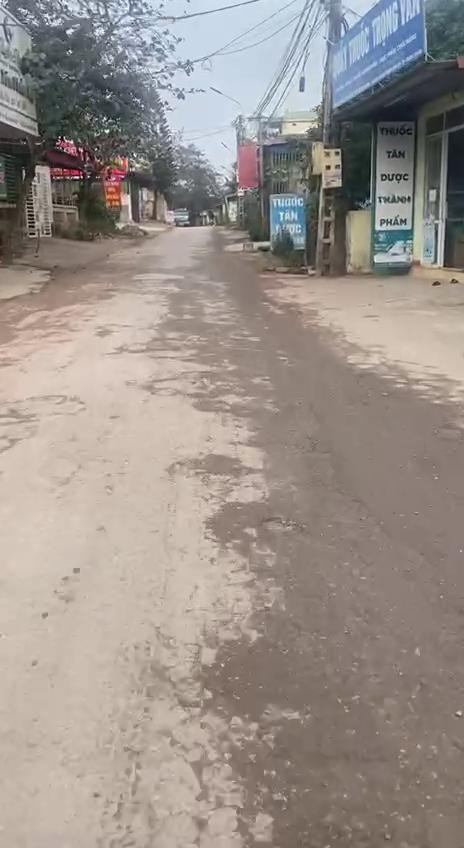pothole: (260, 506, 310, 542)
